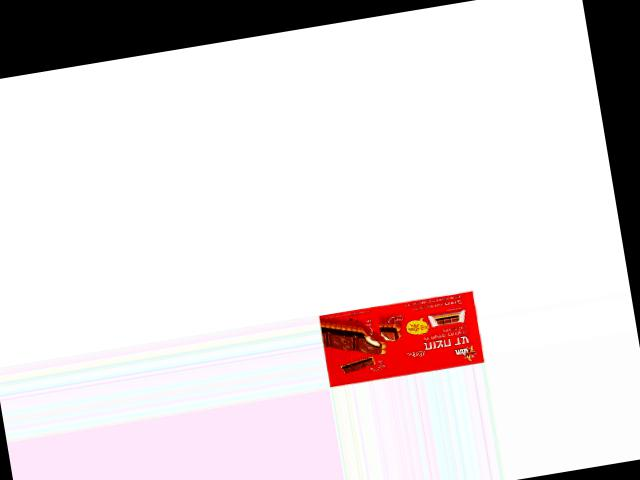chocolate: (318, 289, 487, 388)
